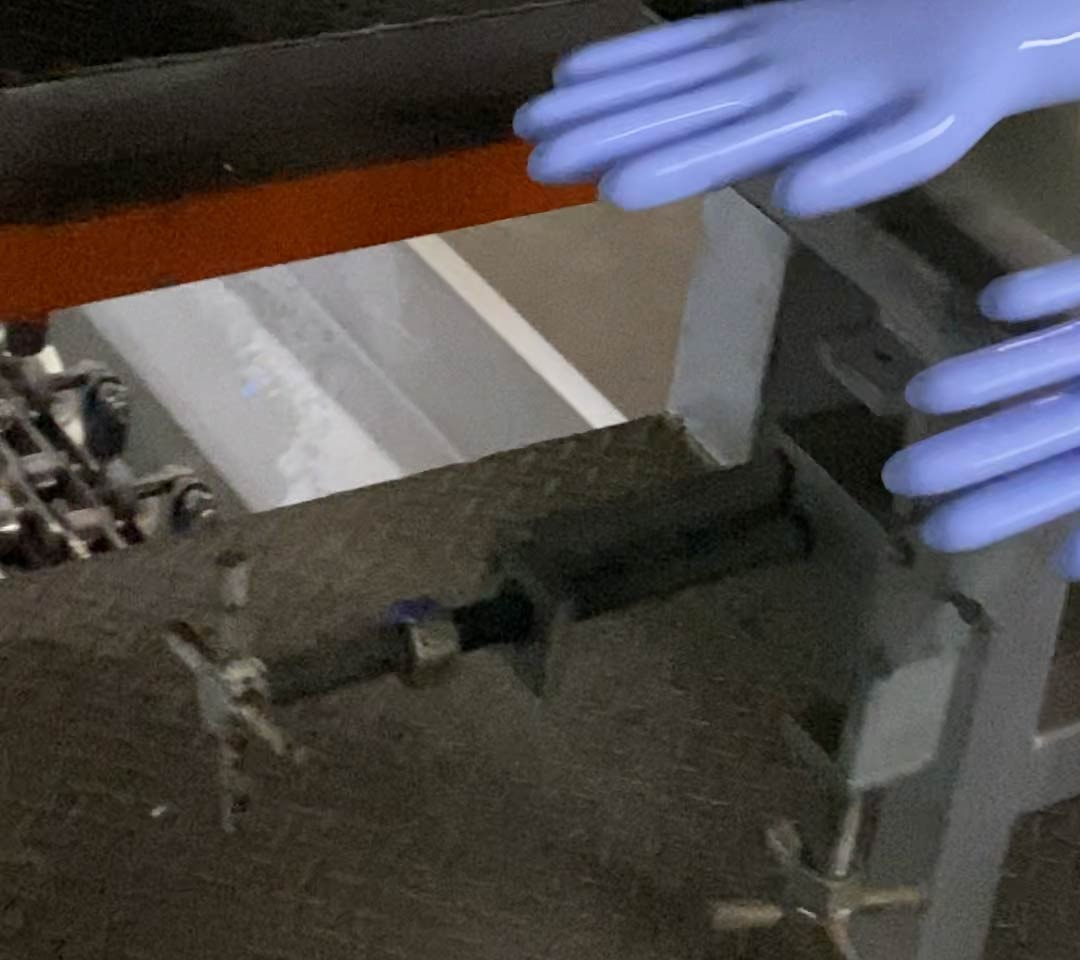glove: (511, 2, 1080, 211), (873, 254, 1080, 592)
